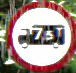Heavy Vehicles: (7, 0, 75, 72)
